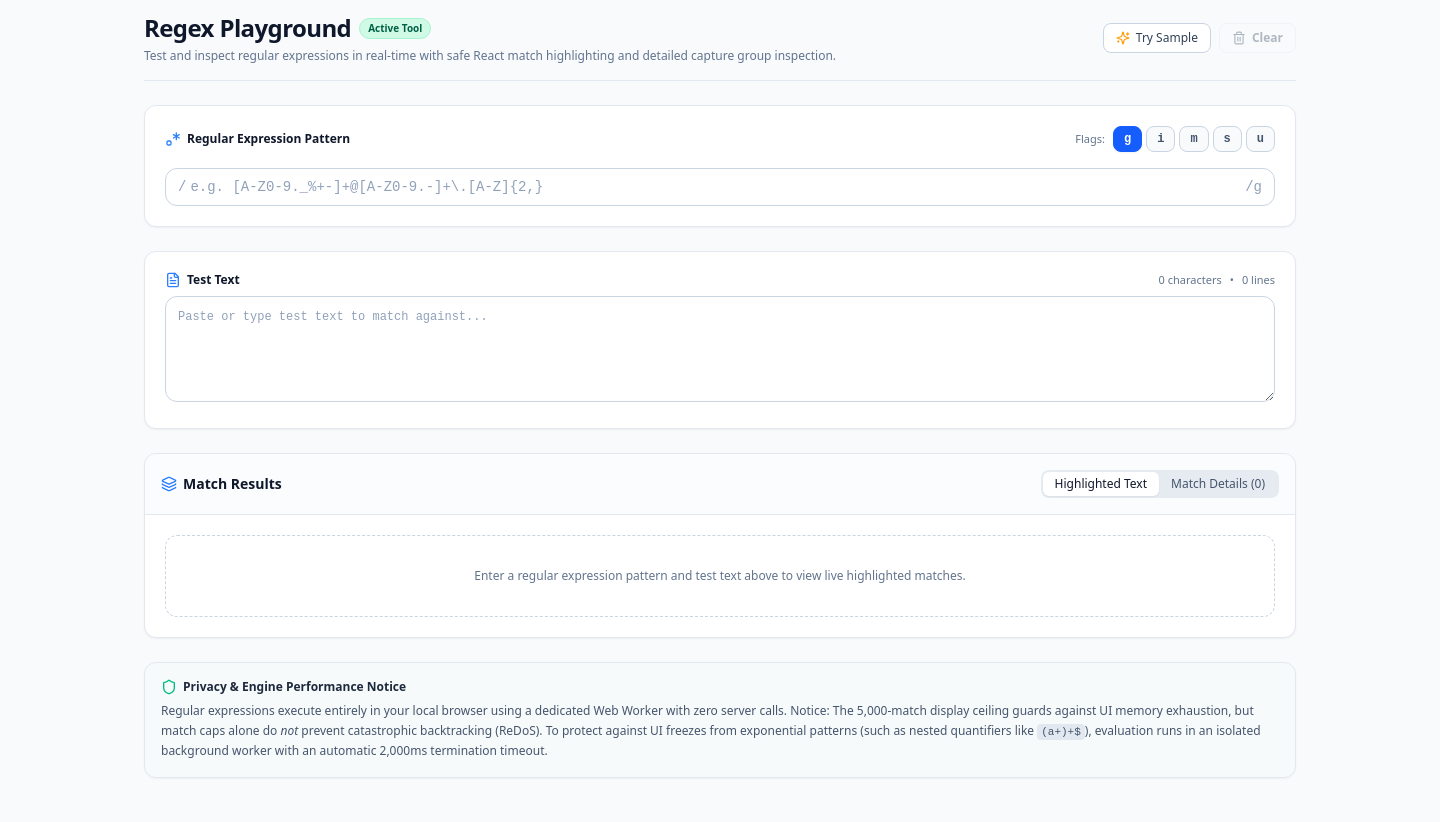
Test case: RegexPlayground Component › switches to match details tab and inspects captured groups
Type "(\\w+)@(\\w+\\.\\w+)" into the field with placeholder "e.g. [A-Z0-9._%+-]+@[A-Z0-9.-]+\\.[A-Z]{2,}" at (716,187), box [190,177,1241,197]
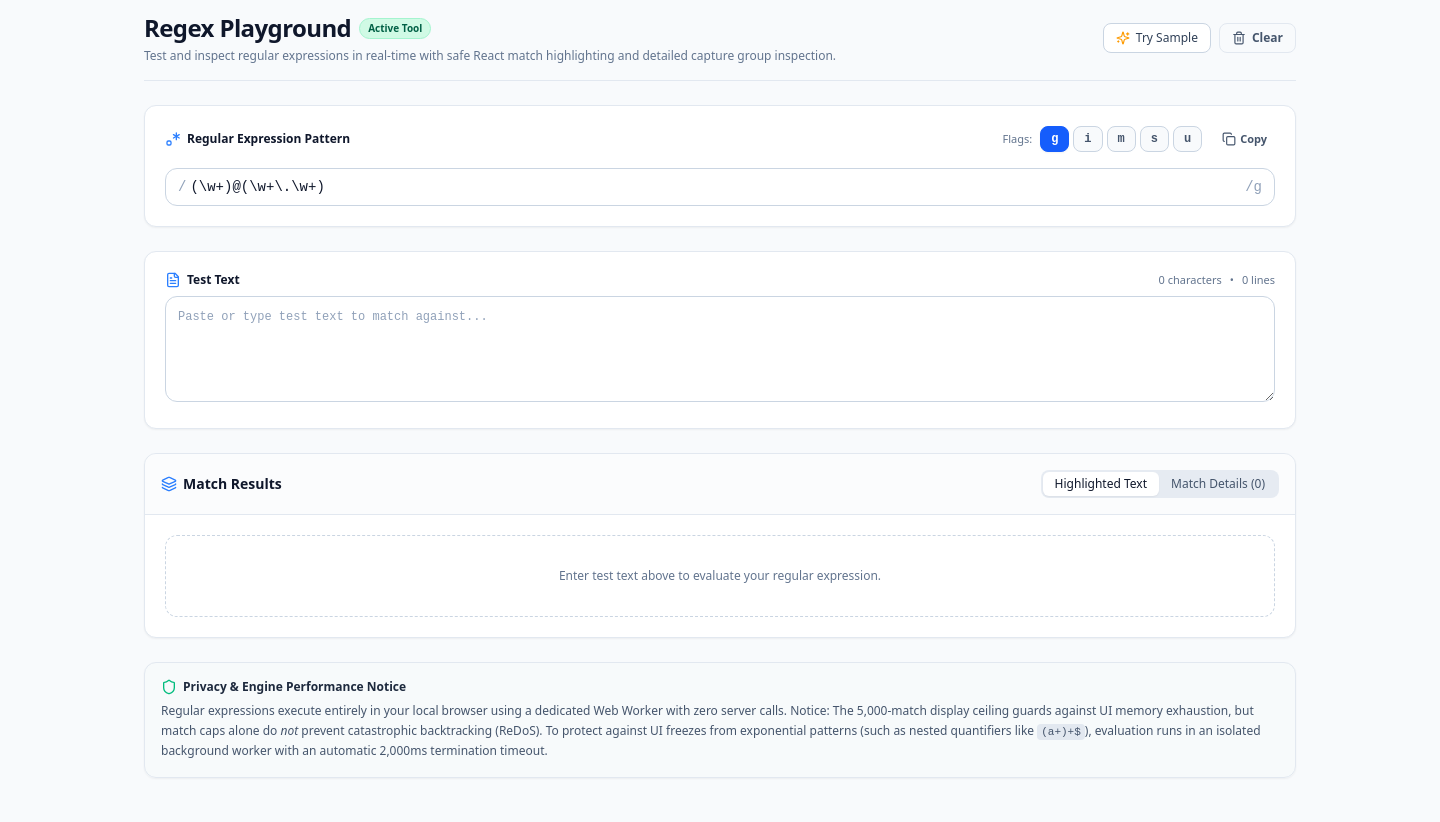
Type "contact user@example.com" into the text box with placeholder "Paste or type test text to match against..." at (720,349), box [165,296,1275,402]
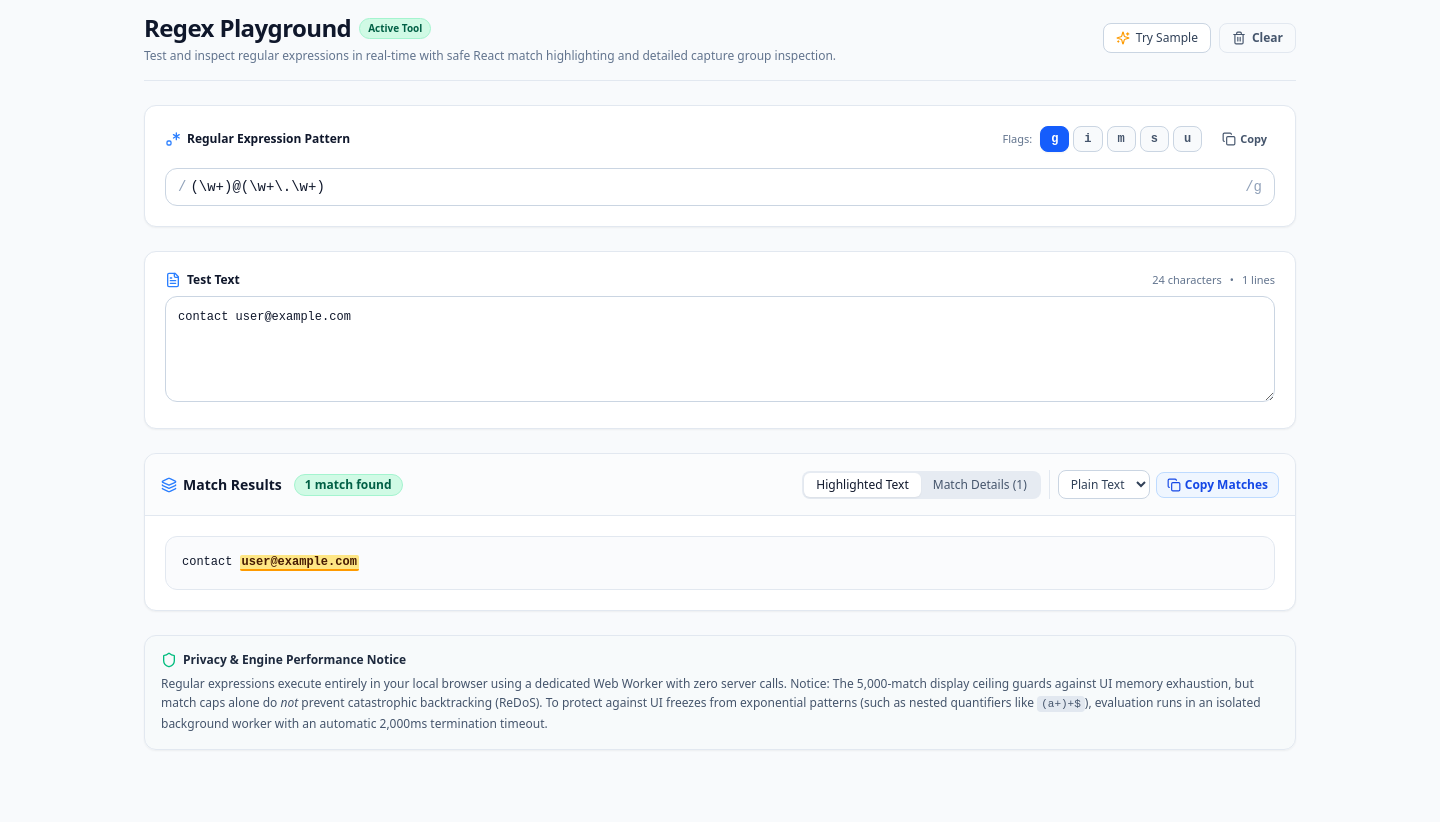
Click the button "Match Details (1)" at (980,484), box [921,472,1039,496]
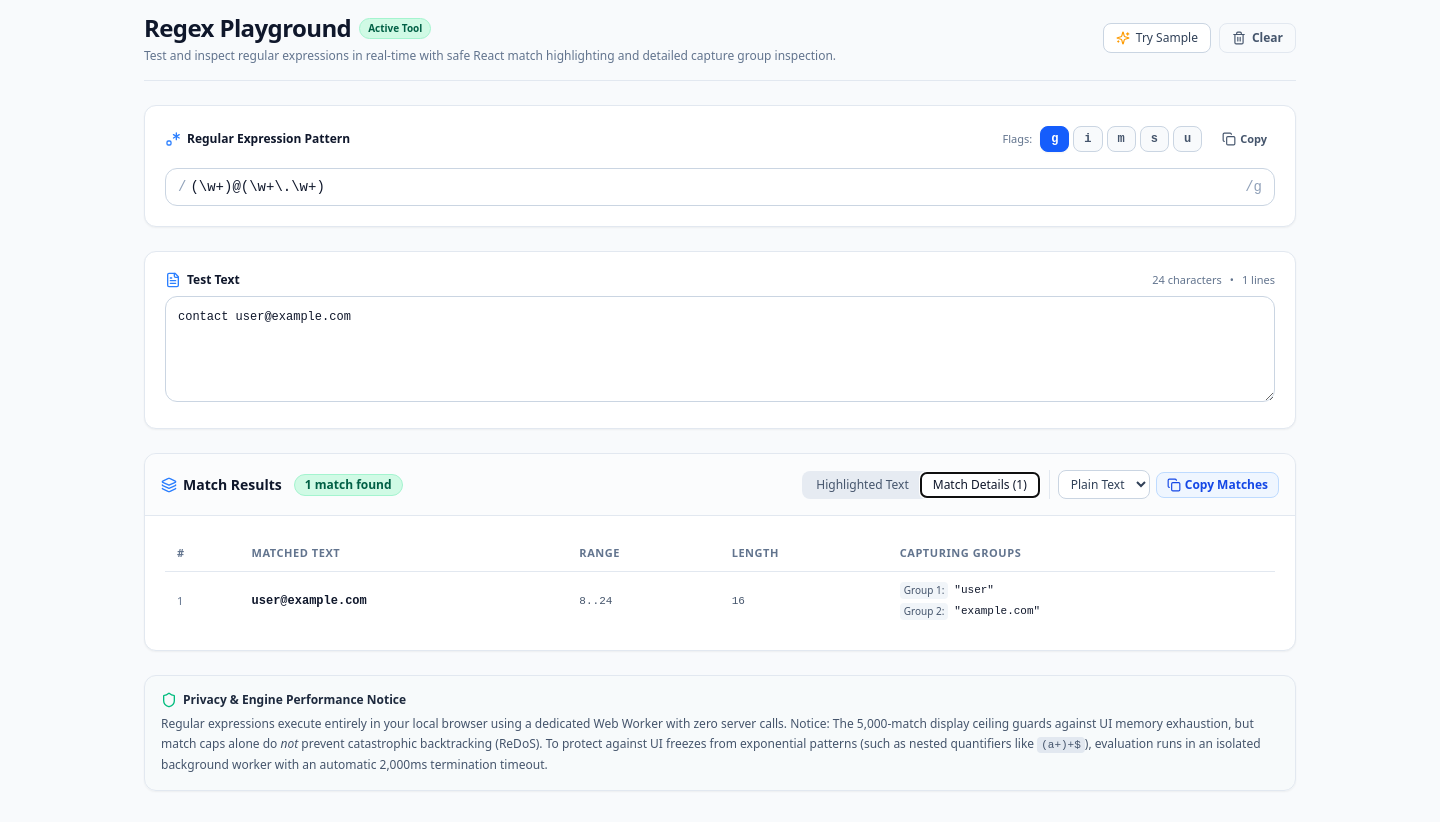
Now the text "user@example.com" is shown, box [240,571,567,630]
Now the text "8..24" is shown, box [567,571,720,630]
Now the text "\"user\"" is shown, box [954,583,994,598]
